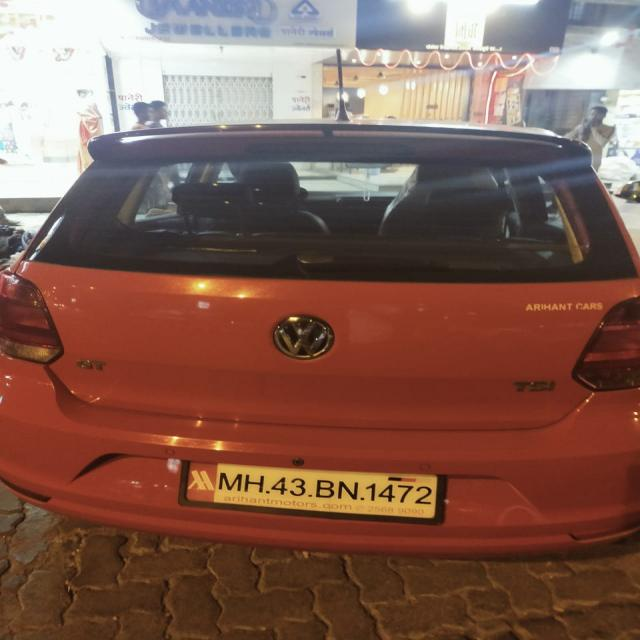Number-Plate: (184, 460, 439, 514)
